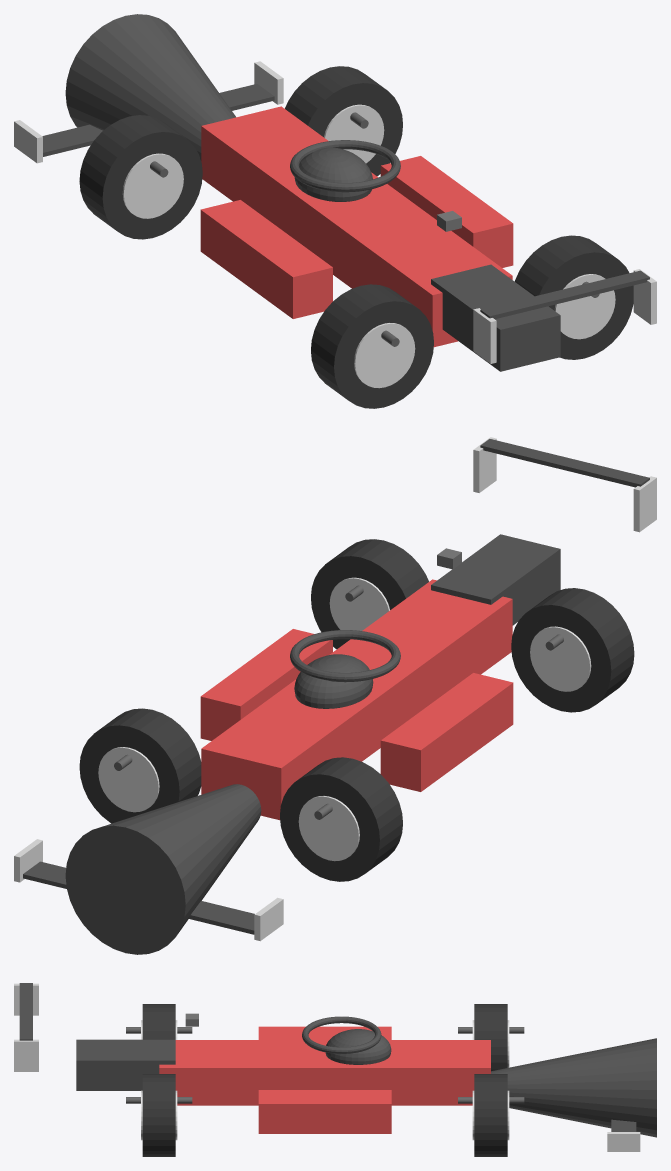
File: formula_car.glb
3 views of the same model, one above another, from view 1: azimuth 30°, elevation 25°; view 2: azimuth 150°, elevation 25°; view 3: azimuth 270°, elevation 25° (orthographic). The views are drawn at different scales.
Parts seen in each view (by area): view 1: Monocoque, Nose, Sidepod_L, FL_Tire, RL_Tire, EngineCover, RR_Tire, Sidepod_R, FR_Tire, FL_Rim, RL_Rim, Cockpit (+9 smaller); view 2: Monocoque, Nose, Sidepod_L, RL_Tire, FL_Tire, FR_Tire, EngineCover, Sidepod_R, RR_Tire, RL_Rim, FR_Rim, FL_Rim (+9 smaller); view 3: Monocoque, Nose, Sidepod_R, EngineCover, FR_Tire, RR_Tire, FL_Tire, Cockpit, Sidepod_L, Halo, RL_Tire, RearWing (+5 smaller).
Boxes of the visible parts, x1=… form: Monocoque: x1=201, y1=106, x2=512, y2=347; Nose: x1=65, y1=14, x2=235, y2=160; Sidepod_L: x1=200, y1=200, x2=332, y2=318; FL_Tire: x1=79, y1=115, x2=202, y2=239; RL_Tire: x1=311, y1=284, x2=433, y2=408; EngineCover: x1=431, y1=264, x2=560, y2=371; RR_Tire: x1=514, y1=235, x2=633, y2=359; Sidepod_R: x1=380, y1=156, x2=513, y2=267; FR_Tire: x1=285, y1=66, x2=402, y2=176; FL_Rim: x1=122, y1=153, x2=183, y2=218; RL_Rim: x1=354, y1=323, x2=415, y2=388; Cockpit: x1=294, y1=147, x2=372, y2=201; Monocoque: x1=201, y1=579, x2=512, y2=820; Nose: x1=65, y1=784, x2=261, y2=954; Sidepod_L: x1=380, y1=673, x2=513, y2=791; RL_Tire: x1=511, y1=588, x2=634, y2=712; FL_Tire: x1=280, y1=757, x2=402, y2=881; FR_Tire: x1=79, y1=708, x2=201, y2=823; EngineCover: x1=431, y1=534, x2=560, y2=625; Sidepod_R: x1=200, y1=629, x2=332, y2=740; RR_Tire: x1=311, y1=539, x2=428, y2=649; RL_Rim: x1=530, y1=626, x2=591, y2=691; FR_Rim: x1=98, y1=747, x2=159, y2=812; FL_Rim: x1=298, y1=796, x2=359, y2=861; Monocoque: x1=159, y1=1040, x2=490, y2=1105; Nose: x1=491, y1=1038, x2=656, y2=1137; Sidepod_R: x1=258, y1=1090, x2=391, y2=1133; EngineCover: x1=76, y1=1039, x2=175, y2=1090; FR_Tire: x1=474, y1=1074, x2=507, y2=1156; RR_Tire: x1=142, y1=1074, x2=175, y2=1156; FL_Tire: x1=474, y1=1004, x2=507, y2=1071; Cockpit: x1=325, y1=1029, x2=391, y2=1064; Sidepod_L: x1=258, y1=1026, x2=391, y2=1039; Halo: x1=302, y1=1016, x2=381, y2=1053; RL_Tire: x1=142, y1=1004, x2=175, y2=1039; RearWing: x1=19, y1=983, x2=32, y2=1040.
Size of the model in its own units: 1.5 by 0.81 by 3.87.
